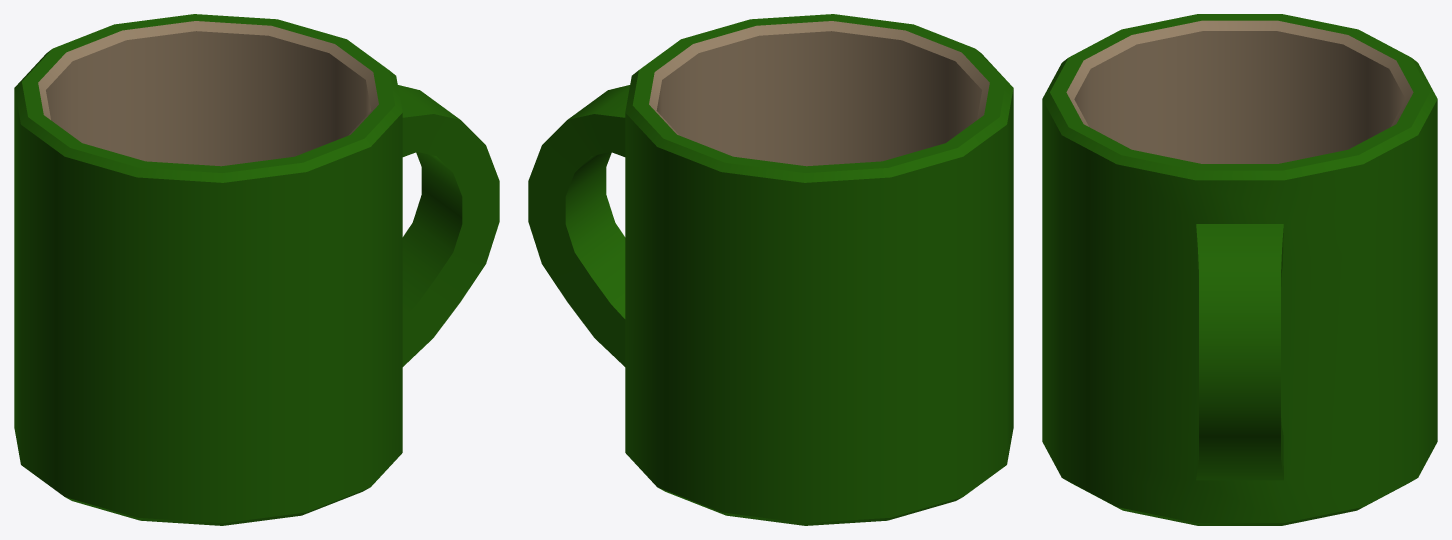
The model's file is object-mug_01.glb.
3 renders of one model, left to right at view 1: azimuth 30°, elevation 25°; view 2: azimuth 150°, elevation 25°; view 3: azimuth 270°, elevation 25°, orthographic.
Visible parts, largest first — view 1: Cylinder__0; view 2: Cylinder__0; view 3: Cylinder__0.
Boxes of the visible parts, left/top/right/bottom form: Cylinder__0: left=14, top=14, right=499, bottom=525; Cylinder__0: left=528, top=14, right=1013, bottom=525; Cylinder__0: left=1042, top=14, right=1437, bottom=525.
Size of the model in its own units: 0.5496 by 0.4258 by 0.4283.
